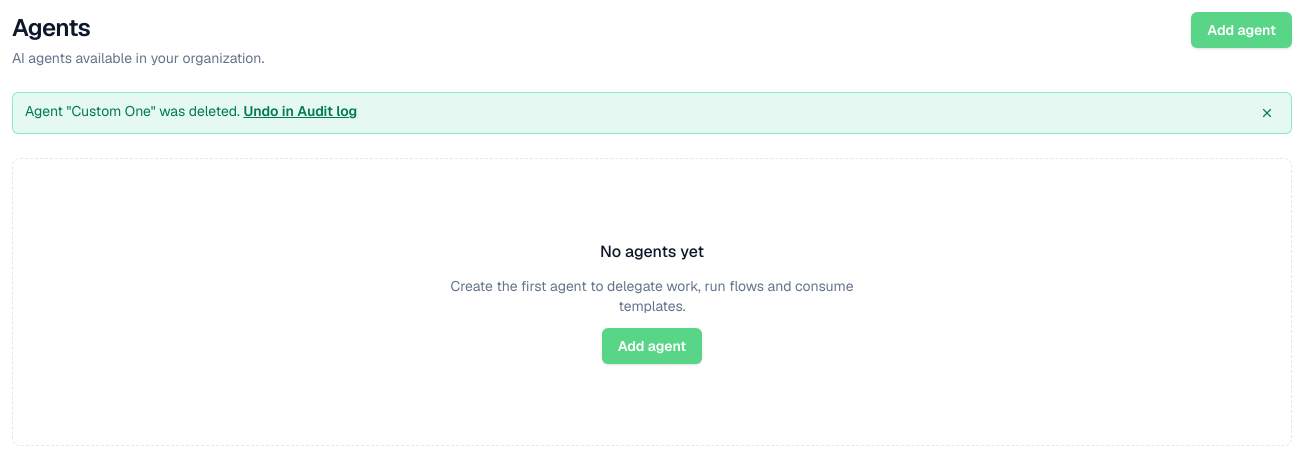
Test: AgentsListPage › should dismiss the deleted banner when the dismiss button is clicked
Expected: the message "Agent \"Custom One\" was deleted. Undo in Audit log" is shown, [12,92,1292,134]
Click the button named "dismiss" at (1267, 113), box [1255,101,1279,125]
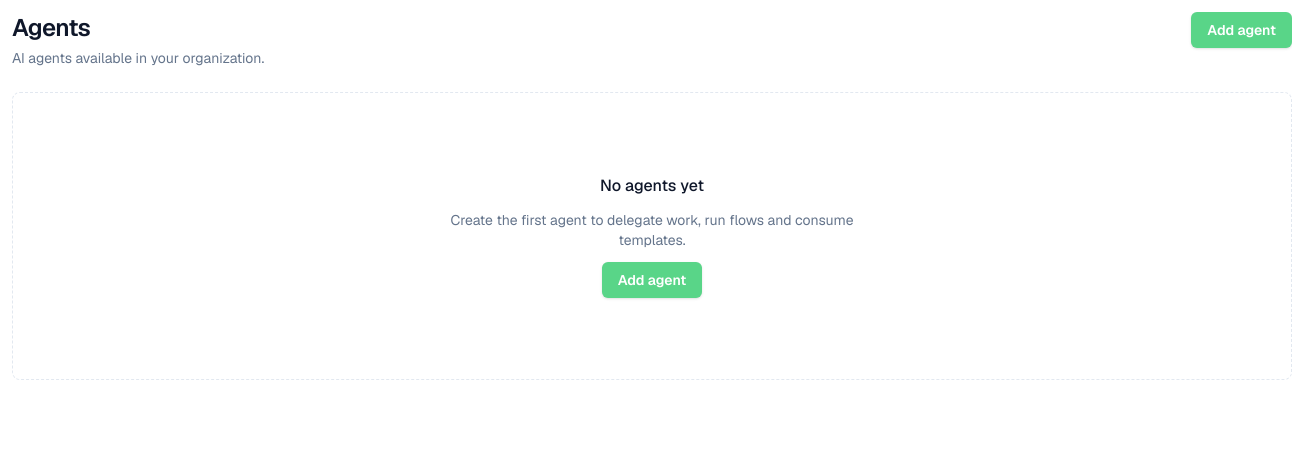
Now the message "Agent \"Custom One\" was deleted. Undo in Audit log" is gone
